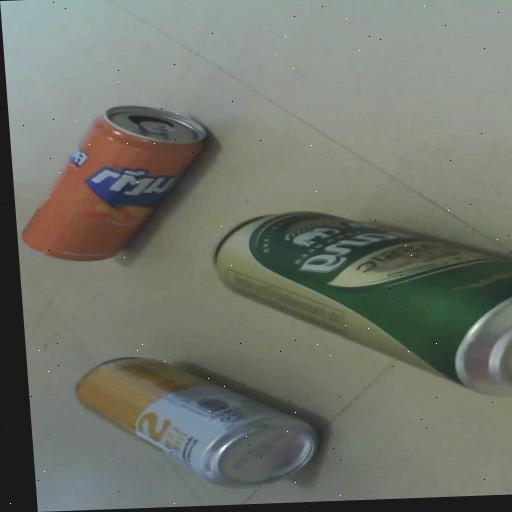canned: (203, 194, 512, 415), (44, 345, 353, 500), (7, 90, 228, 264)
